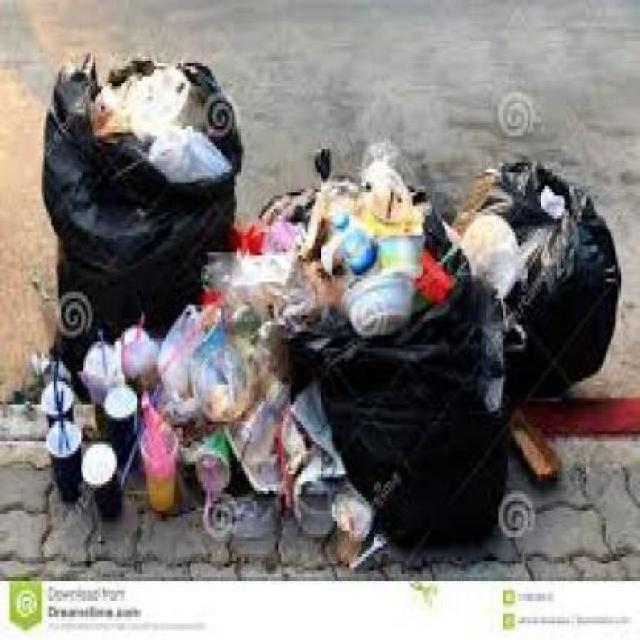garbage: (12, 43, 623, 560)
